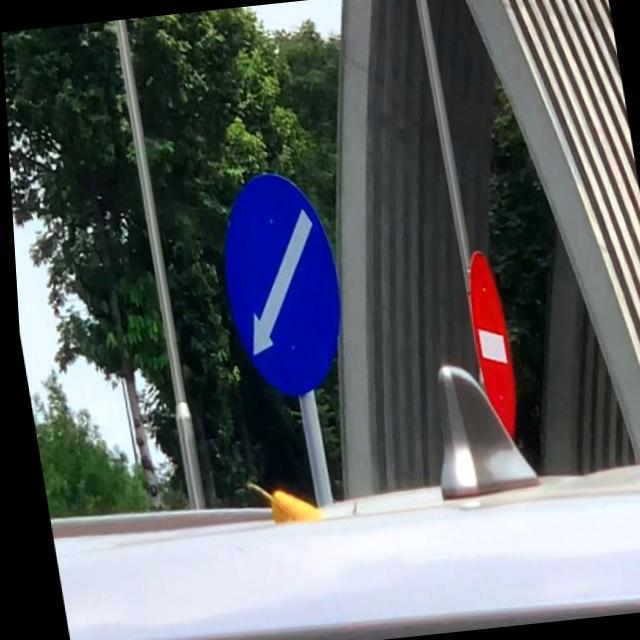Vong chuong ngai vat sang trai: (205, 167, 352, 403)
